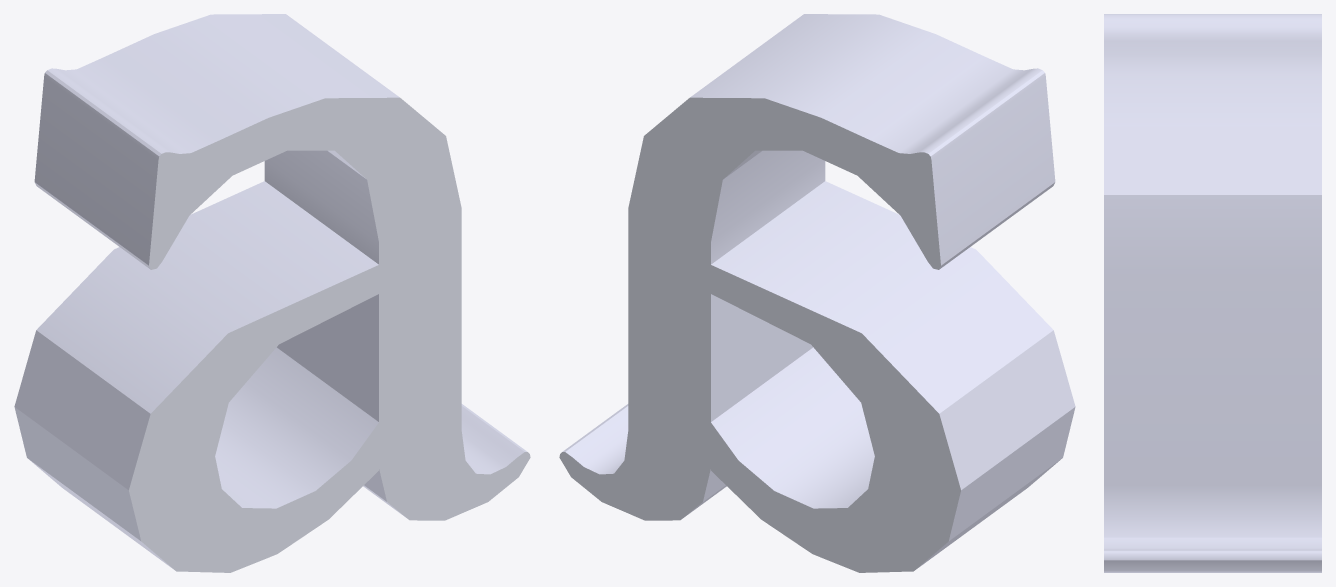
File: A_Soul_Grey.glb
3 views of the same model, side by side, from view 1: azimuth 30°, elevation 25°; view 2: azimuth 150°, elevation 25°; view 3: azimuth 270°, elevation 25° (orthographic). The views are drawn at different scales.
Parts seen in each view (by area): view 1: a_Soul_Grey; view 2: a_Soul_Grey; view 3: a_Soul_Grey.
Boxes of the visible parts, bbox=[...] form: a_Soul_Grey: bbox=[14, 14, 530, 572]; a_Soul_Grey: bbox=[559, 14, 1075, 572]; a_Soul_Grey: bbox=[1104, 14, 1321, 572].
Size of what is drawn, in the model's own units: 0.0912 by 0.098 by 0.045.
Materials: 2 (2 with a texture image).
